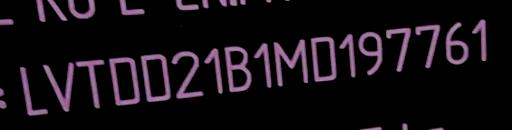letter: (270, 36, 312, 86), (42, 60, 76, 118), (138, 52, 172, 106), (106, 54, 142, 105), (15, 62, 49, 115), (169, 49, 205, 98), (74, 57, 106, 109), (222, 44, 254, 92), (309, 33, 339, 83), (200, 45, 226, 95), (414, 23, 442, 69), (444, 21, 470, 67), (385, 26, 411, 72), (358, 30, 384, 75), (252, 41, 274, 87), (470, 17, 490, 62), (338, 32, 358, 77)
